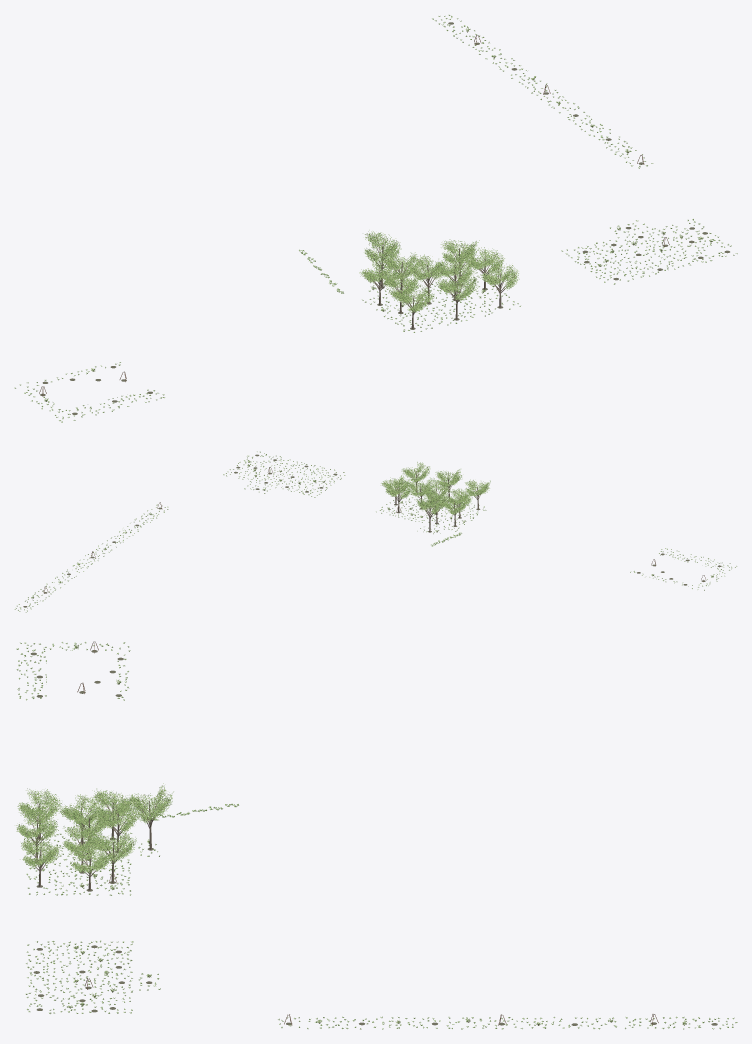
File: 20261103-campus-planting-center-front.glb
3 renders of one model, top to bottom at view 1: azimuth 30°, elevation 25°; view 2: azimuth 150°, elevation 25°; view 3: azimuth 270°, elevation 25°, orthographic. The views are drawn at different scales.
Visible parts, largest first — view 1: Layered garden groundcover 1, Layered garden groundcover 0; view 2: Layered garden groundcover 1, Layered garden groundcover 0, Exposed soil around tree trunks; view 3: Layered garden groundcover 1, Layered garden groundcover 0, Exposed soil around tree trunks.
Boxes of the visible parts, x1,y1,x2,y2 form: Layered garden groundcover 1: (15,15,736,422); Layered garden groundcover 0: (19,15,737,422); Layered garden groundcover 1: (16,451,735,612); Layered garden groundcover 0: (14,451,736,611); Exposed soil around tree trunks: (23,454,721,607); Layered garden groundcover 1: (16,642,737,1029); Layered garden groundcover 0: (17,642,737,1029); Exposed soil around tree trunks: (30,650,717,1025).
Bounding box in the file's own units: 151 × 10.74 × 119.
